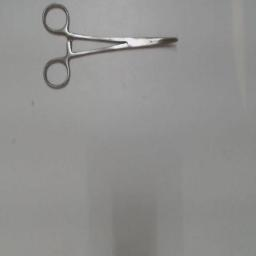Crile Artery Forceps: (42, 2, 182, 90)
